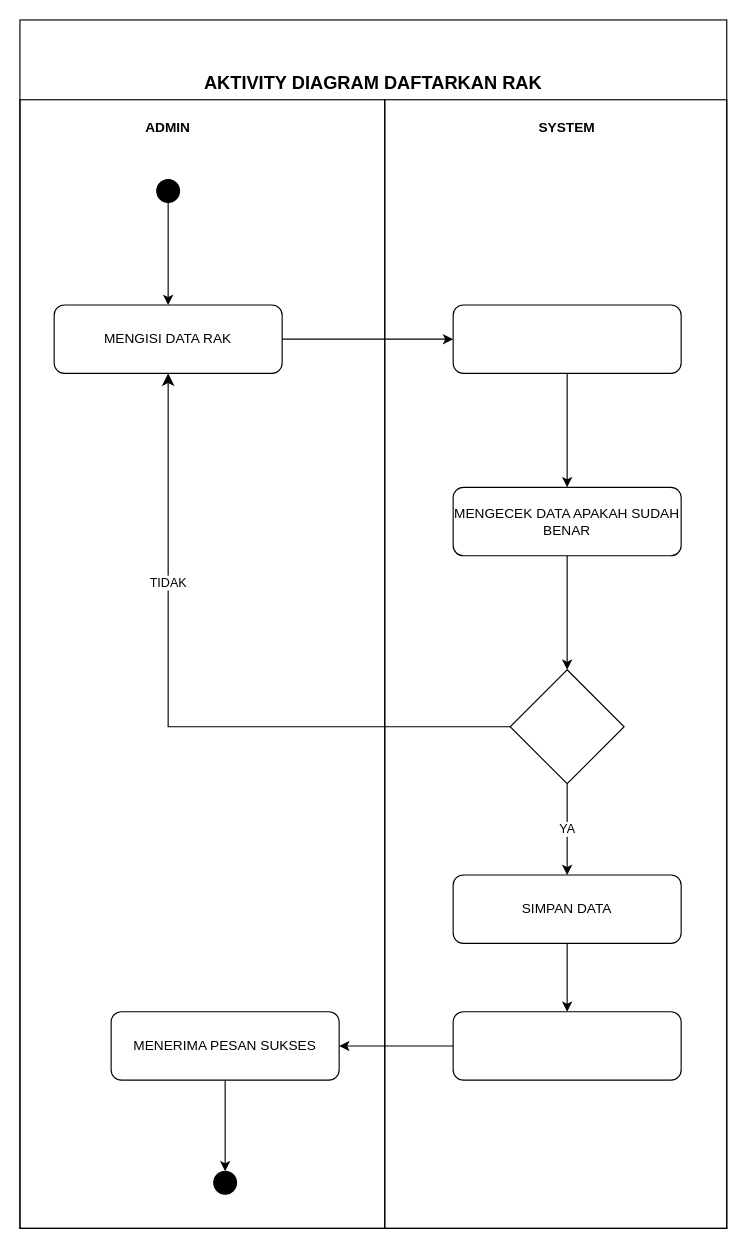
Image size: 747x1248. Some labels were removed from this diagram. Here are the shapes that lost their labels. From the top down, the box of each, then its label:
(452, 304, 681, 373): MENERIMA DATA
(452, 1011, 681, 1080): KIRIM PESAN SUKSES
